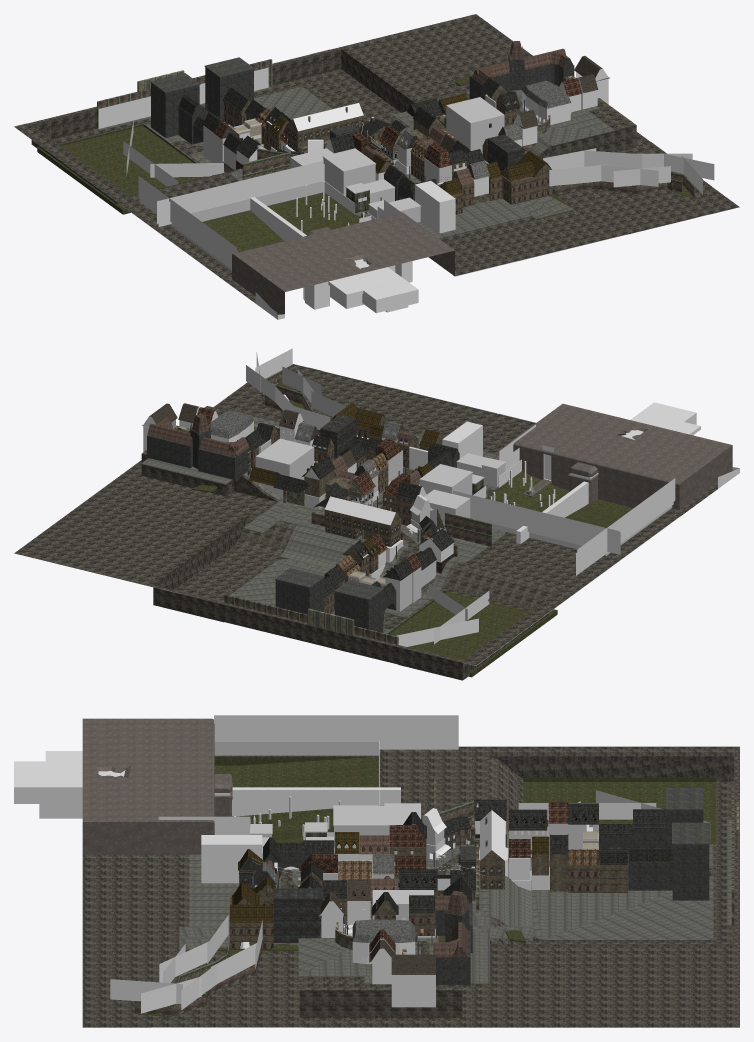
The model's file is watten.fbx.
3 renders of one model, top to bottom at view 1: azimuth 30°, elevation 25°; view 2: azimuth 150°, elevation 25°; view 3: azimuth 270°, elevation 25°, orthographic. The views are drawn at different scales.
Visible parts, largest first — view 1: Watten; view 2: Watten; view 3: Watten.
Part boxes in pixels (x1,y1,x2,y2): Watten: (14,14,739,319); Watten: (14,348,739,680); Watten: (14,715,739,1027).
Bounding box in the file's own units: 22831 × 24939 × 5048.
